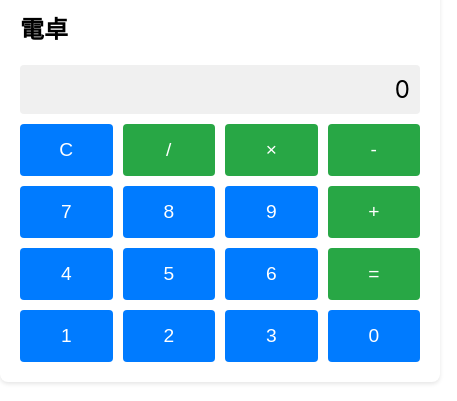
Calculator › inputs numbers correctly
Click the button "1". click: (66, 336)
box: x1=20 y1=310 x2=112 y2=362
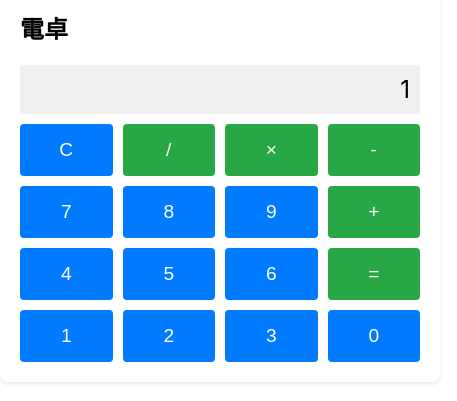
Check: the text with test id "display" reads "1", box x1=400 y1=75 x2=410 y2=104
Click the button "2". click: (169, 336)
box: x1=122 y1=310 x2=215 y2=362
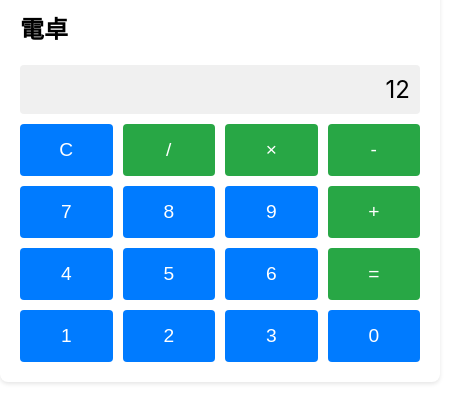
Check: the text with test id "display" reads "12", box x1=386 y1=75 x2=410 y2=104
Click the button "3". click: (271, 336)
box: x1=225 y1=310 x2=318 y2=362
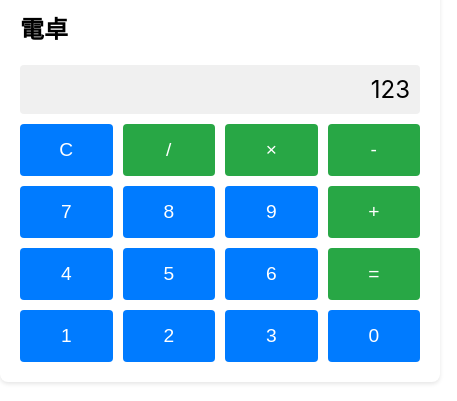
Check: the text with test id "display" reads "123", box x1=371 y1=75 x2=410 y2=104
